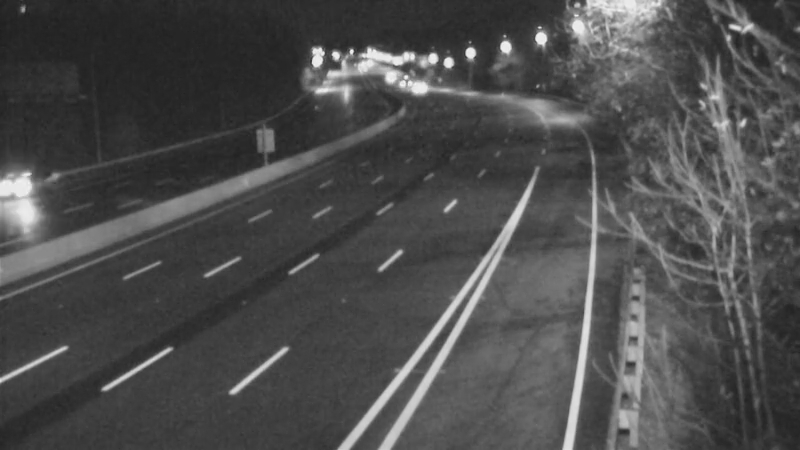vehicle: (1, 151, 72, 231), (360, 50, 410, 100), (377, 54, 427, 104), (390, 58, 440, 108)
